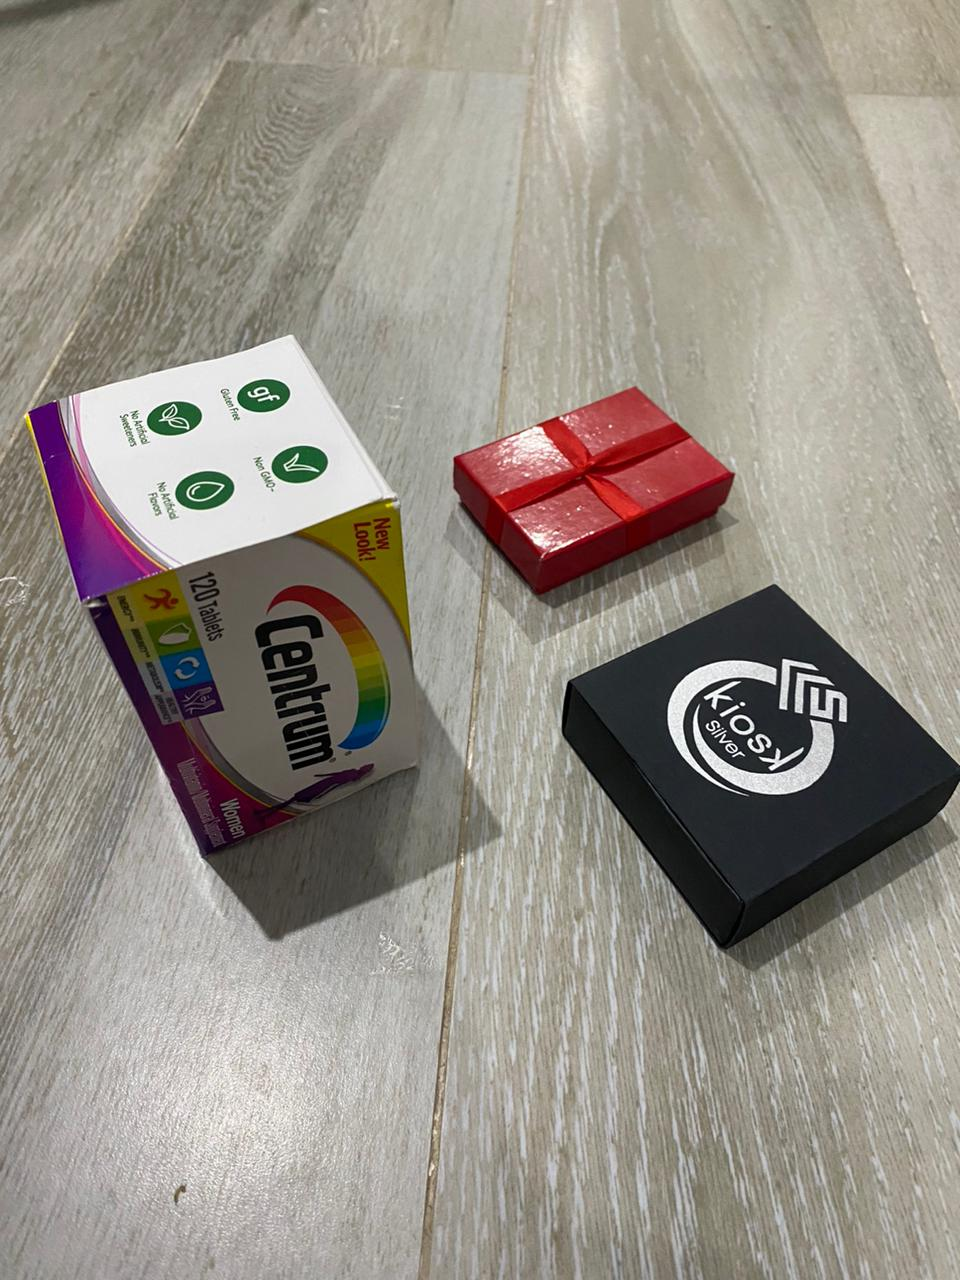Black Box: (450, 381, 743, 597)
Centrum: (13, 329, 432, 865)
Red Box: (557, 583, 960, 963)
